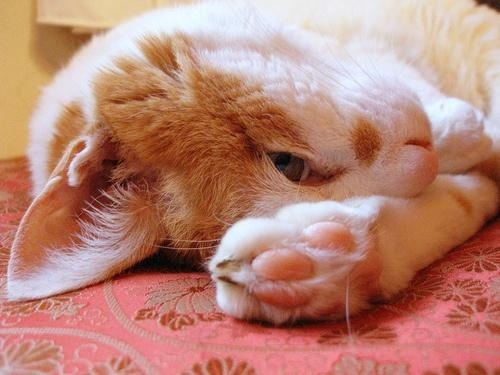cat: (6, 1, 500, 326)
